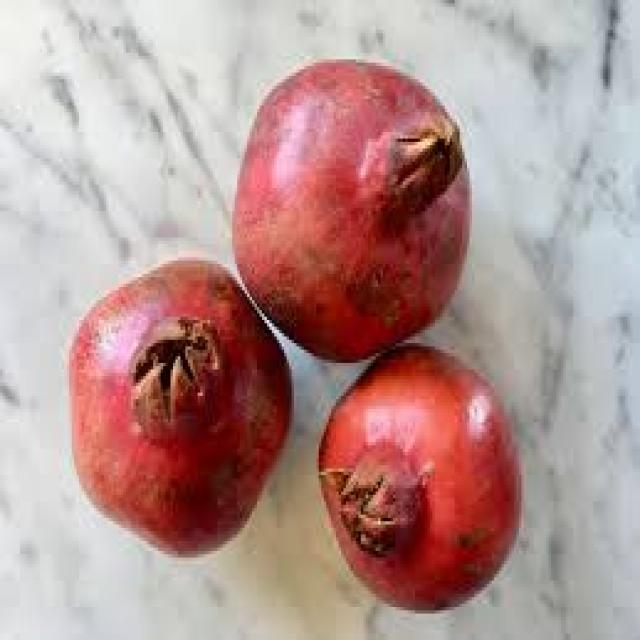overripe: (228, 52, 475, 368), (65, 255, 295, 562), (314, 343, 528, 616)
